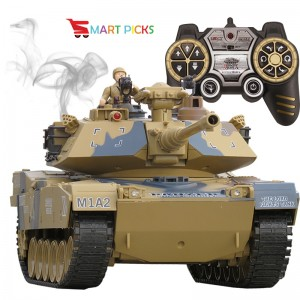Battle Tank: (9, 103, 300, 290)
